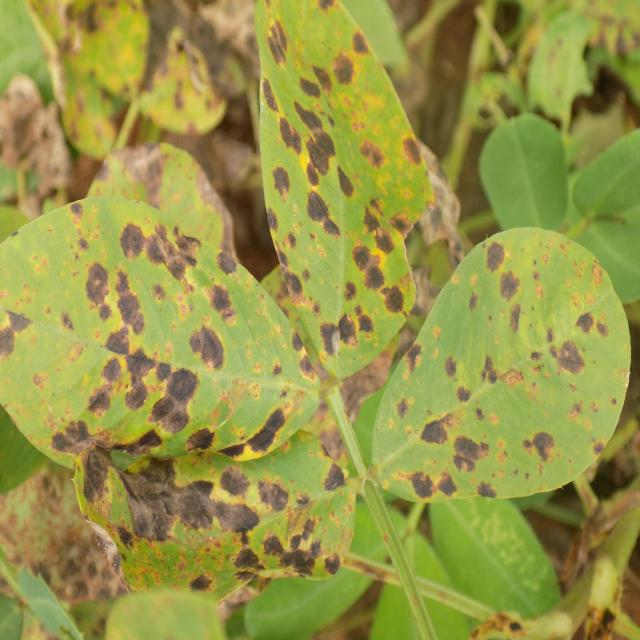Ground nut_tikka leaf spot: (0, 193, 323, 466), (372, 230, 631, 497), (262, 30, 420, 375)
